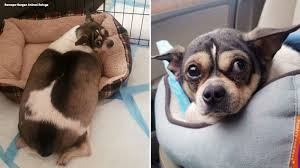Chihuahua: (152, 14, 300, 137)
